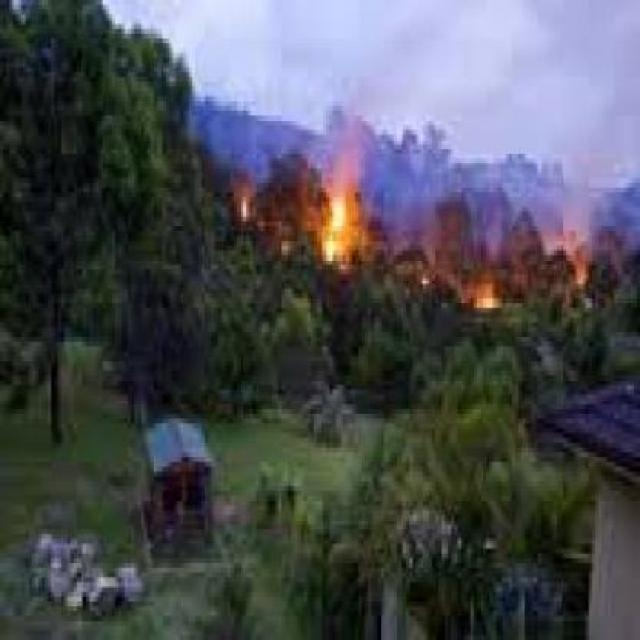Fire: (197, 87, 446, 312)
